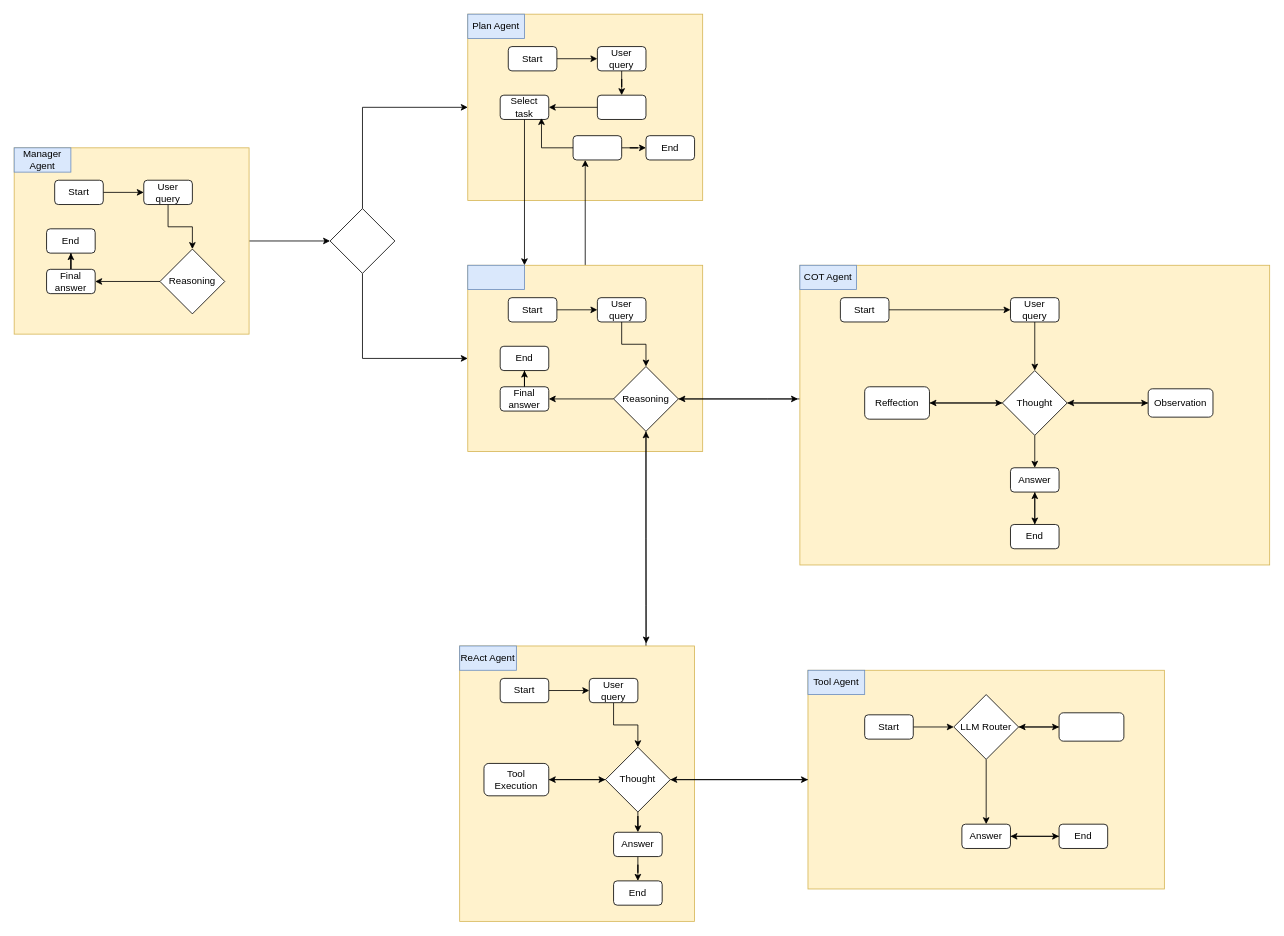
The diagram is 1284 pixels wide and 936 high, and some of its shapes have lost their labels. The box of each missing label's shape, as (x1, y1, x2, y2) in pixels:
Create plan: (597, 94, 646, 119)
MCP: (1058, 712, 1124, 741)
Meta agent: (467, 264, 524, 290)
Plan?: (329, 208, 395, 273)
Update Plan: (572, 135, 622, 160)
